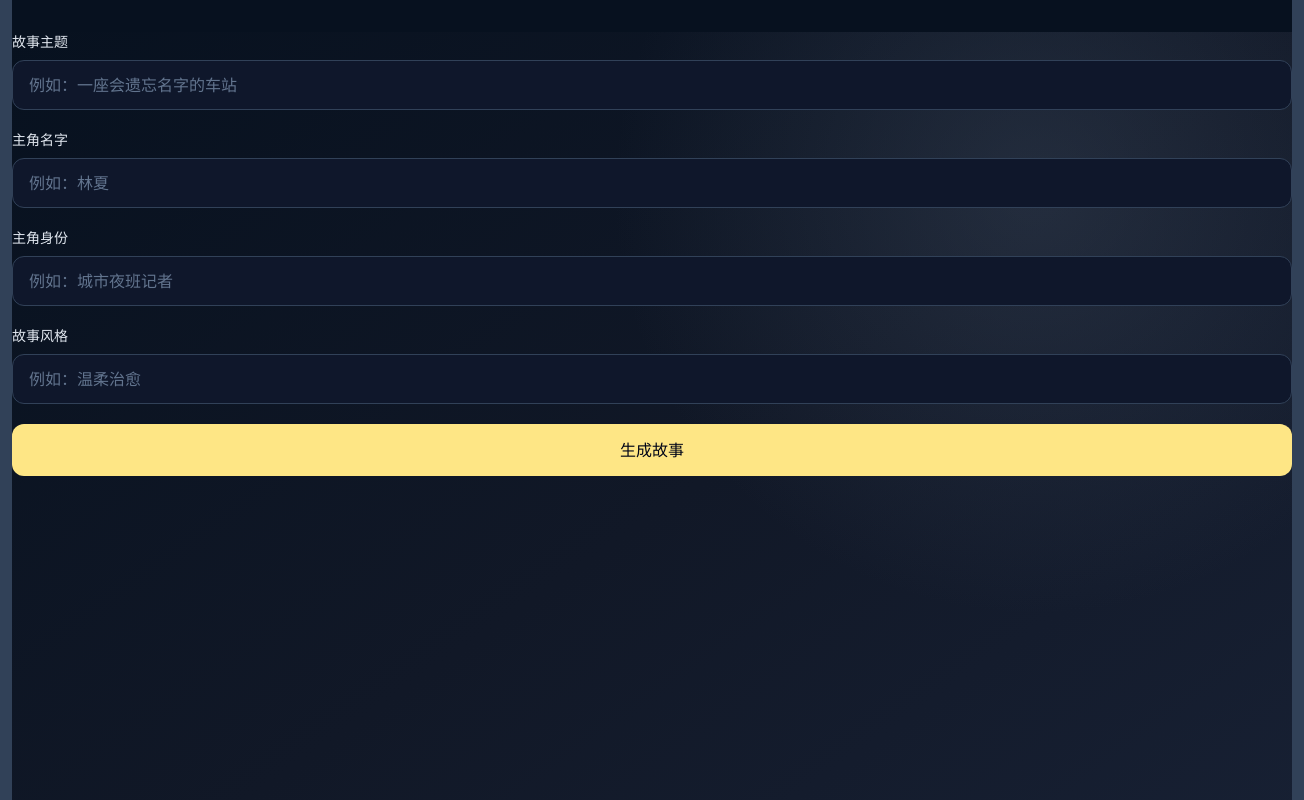
Test: StoryCreator failure experience › keeps form values and offers regeneration after failure
In the field labelled "故事主题": (652, 85) left=12, top=60, right=1292, bottom=110, type "遗忘的车站"
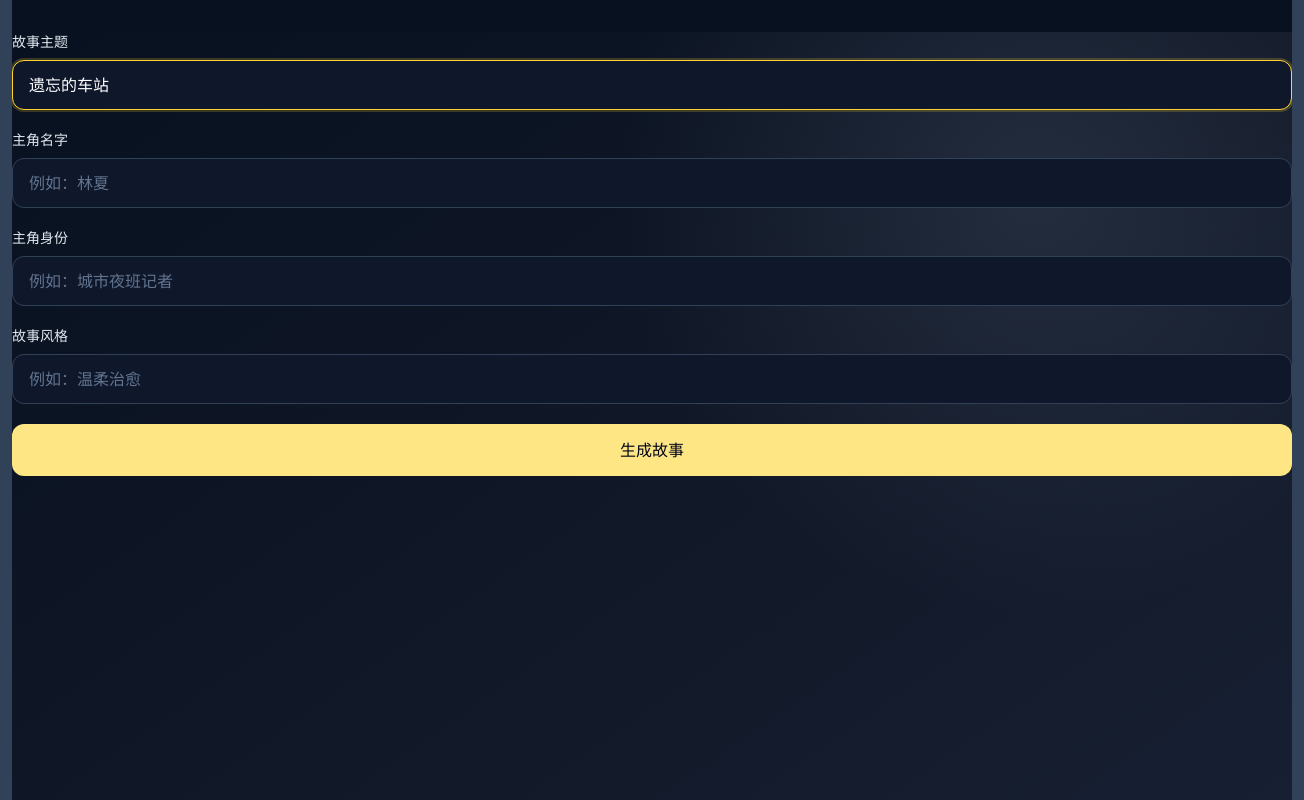
In the field labelled "主角名字": (652, 183) left=12, top=158, right=1292, bottom=208, type "林夏"
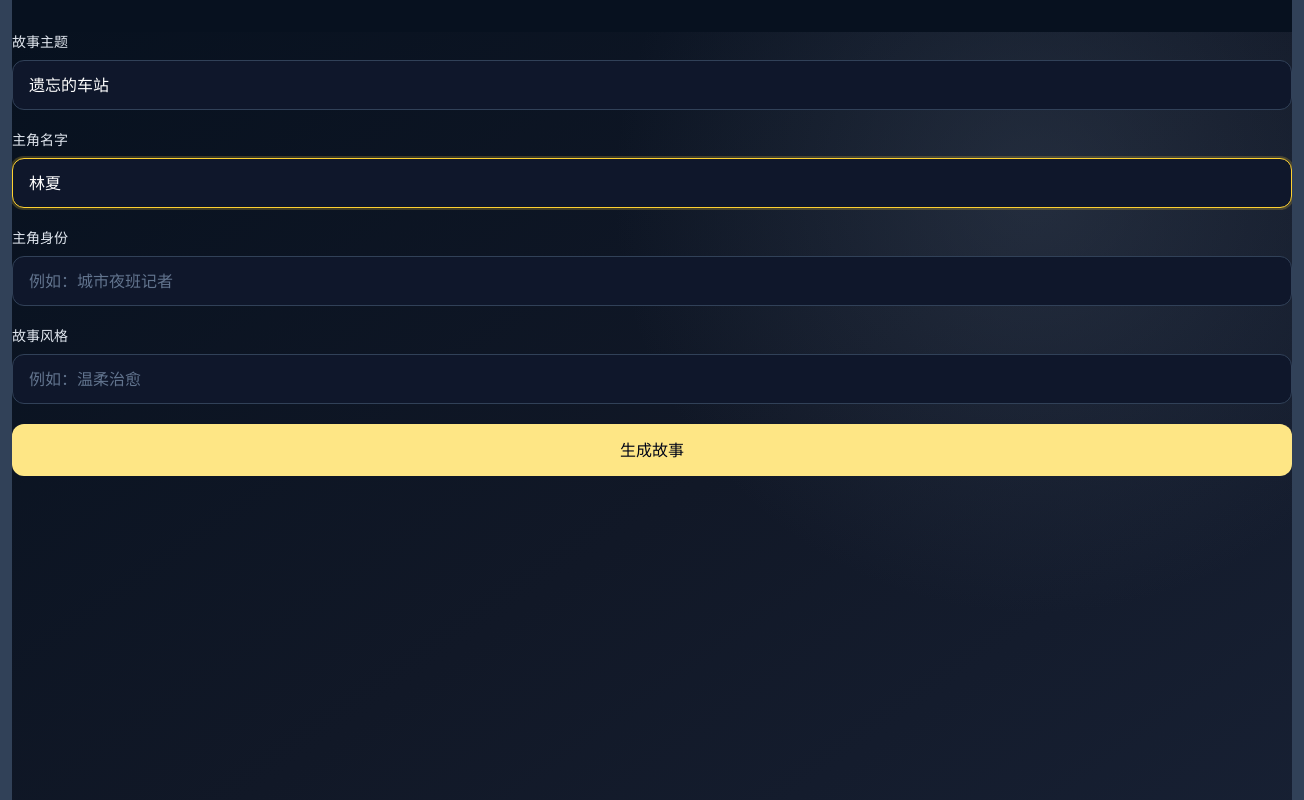
In the field labelled "主角身份": (652, 281) left=12, top=256, right=1292, bottom=306, type "城市夜班记者"
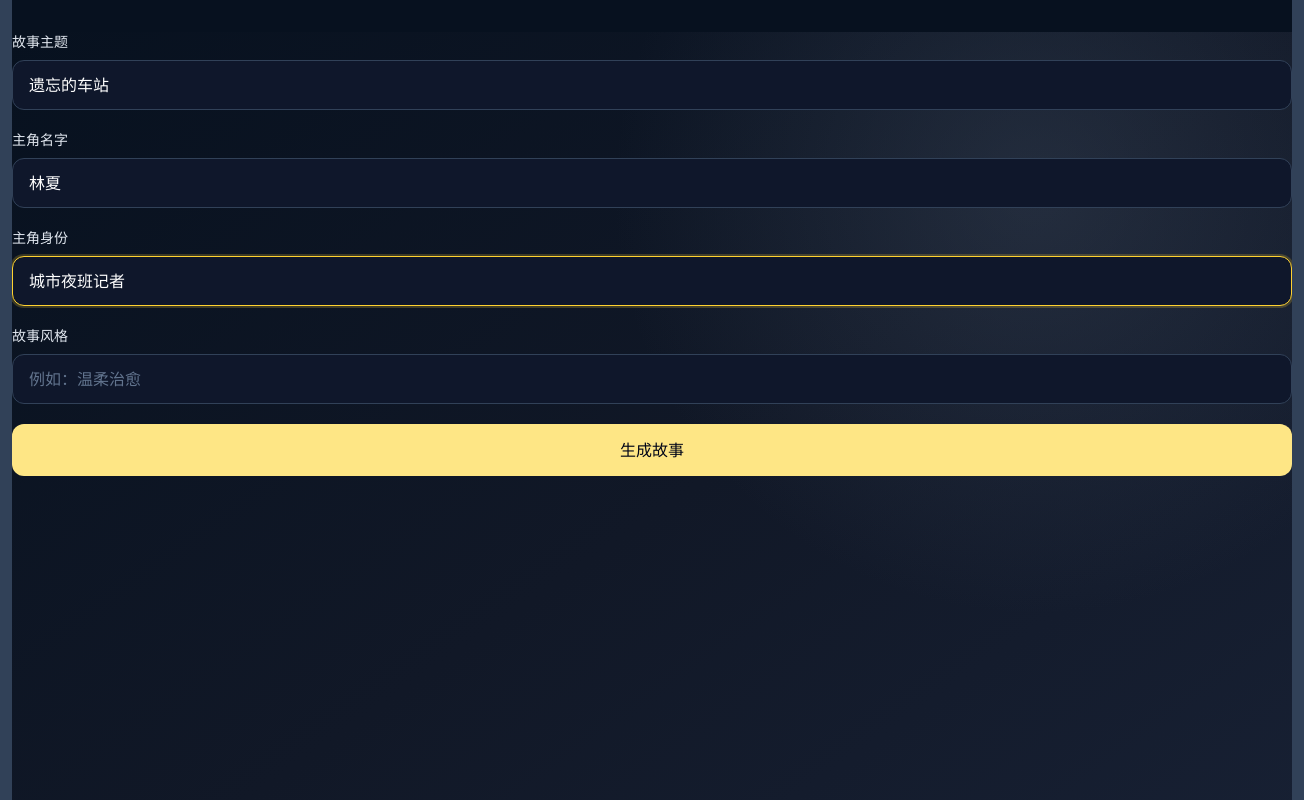
In the field labelled "故事风格": (652, 379) left=12, top=354, right=1292, bottom=404, type "温柔治愈"
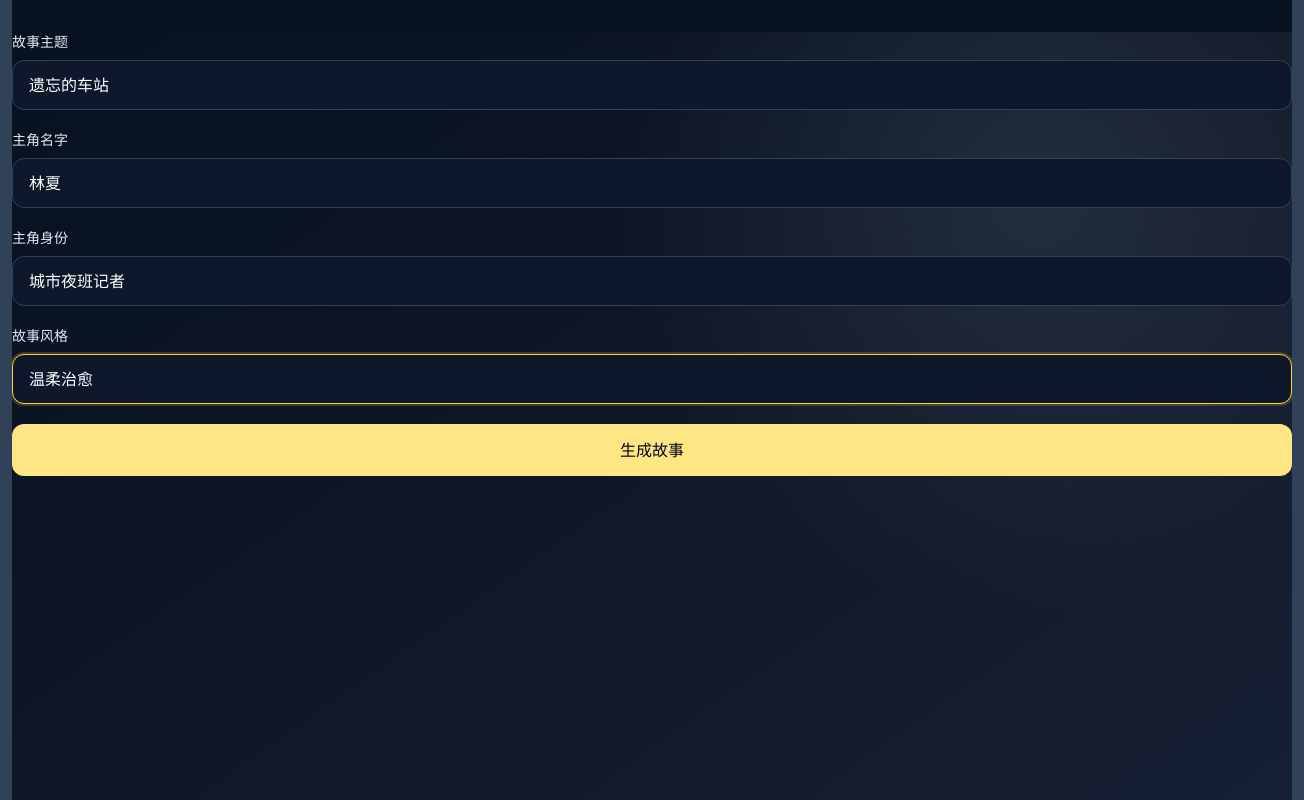
Click the button "生成故事": (652, 450) left=12, top=424, right=1292, bottom=476
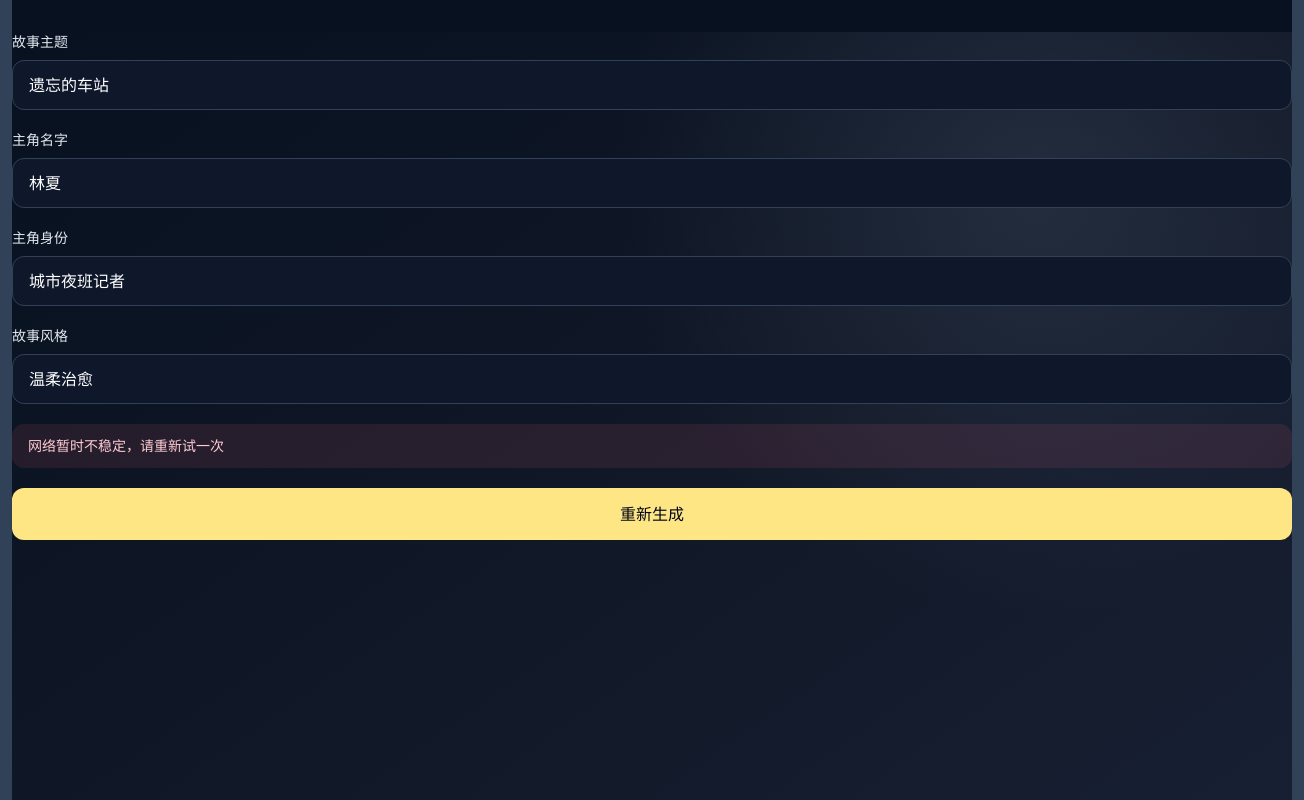
Check: the message reads "网络暂时不稳定，请重新试一次", box left=28, top=437, right=224, bottom=454
Check: the button "重新生成" is shown, box left=12, top=488, right=1292, bottom=540
